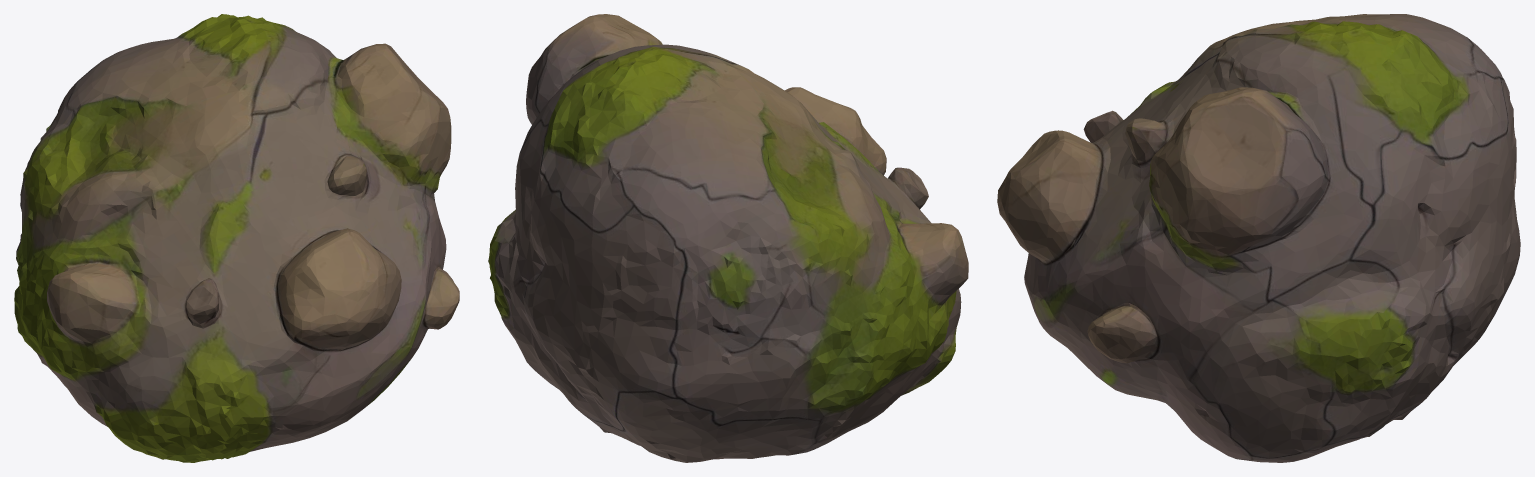
The model's file is boulder.glb.
3 views of the same model, side by side, from view 1: azimuth 30°, elevation 25°; view 2: azimuth 150°, elevation 25°; view 3: azimuth 270°, elevation 25° (orthographic). The views are drawn at different scales.
Visible parts, largest first — view 1: tmpykmuo3o7.ply; view 2: tmpykmuo3o7.ply; view 3: tmpykmuo3o7.ply.
Part boxes in pixels (x1,y1,x2,y2): tmpykmuo3o7.ply: (14,14,459,462); tmpykmuo3o7.ply: (488,14,968,462); tmpykmuo3o7.ply: (997,14,1520,462).
Bounding box in the file's own units: 1.99 × 1.72 × 2.
1 material, 1 textured.
